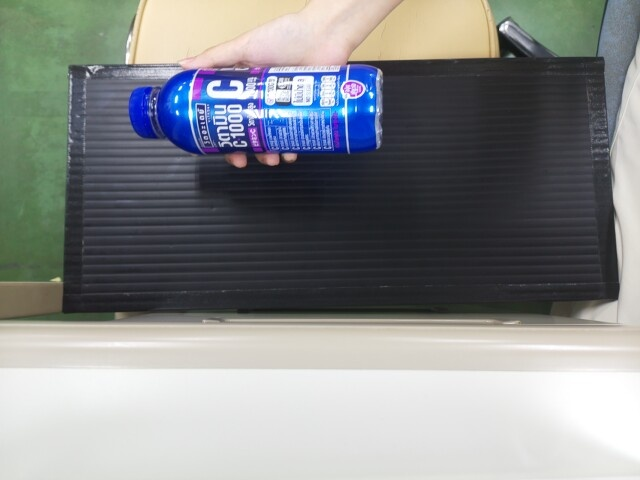plastic_bottle: (123, 68, 381, 152)
